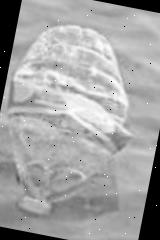plastic: (0, 14, 150, 228)
